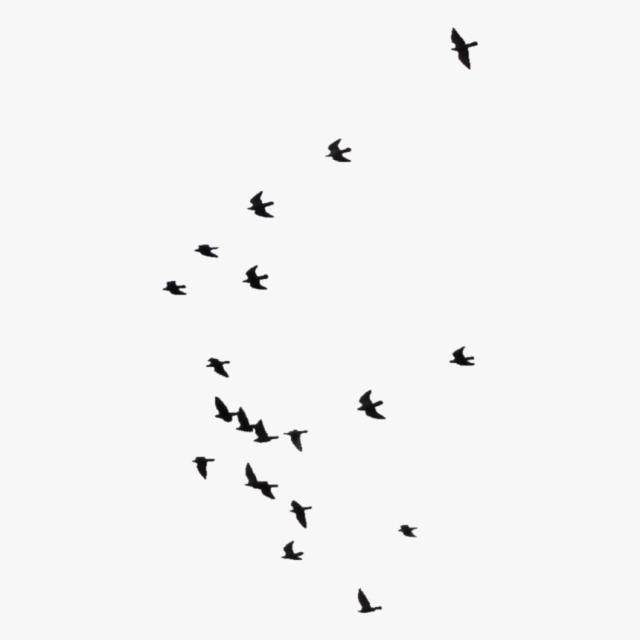bird: (446, 26, 482, 70), (355, 388, 389, 422), (245, 188, 279, 220), (239, 264, 272, 292), (211, 394, 241, 424), (322, 137, 354, 165), (287, 498, 315, 530), (281, 426, 314, 453), (231, 405, 260, 434), (204, 352, 235, 379), (446, 343, 478, 369), (190, 453, 220, 480), (253, 416, 280, 446), (356, 587, 384, 615), (241, 461, 268, 489), (280, 539, 306, 563), (161, 277, 192, 297), (194, 239, 222, 261), (250, 481, 282, 500), (395, 522, 421, 540)
